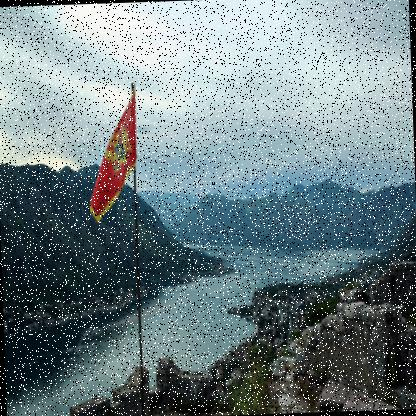me: (86, 89, 142, 226)
